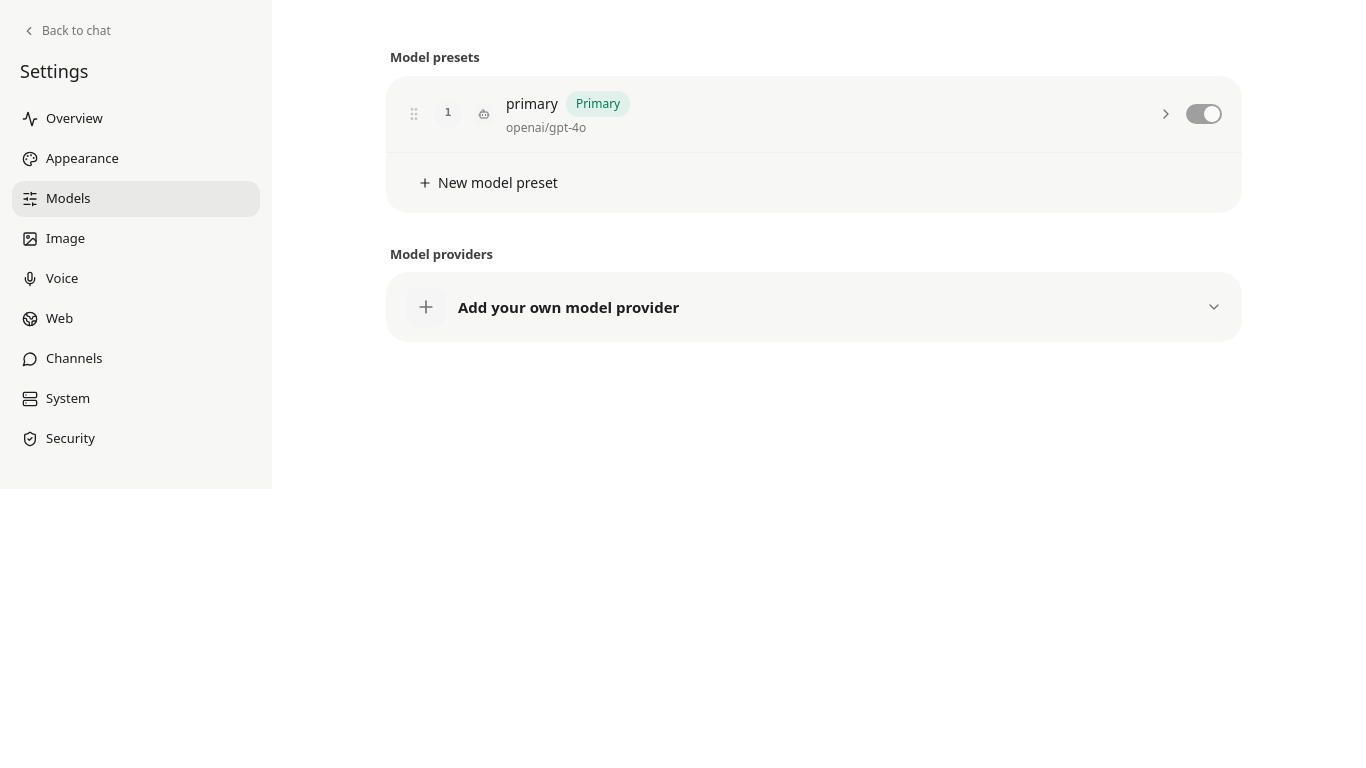
Test case: Settings models › maps a server-side name conflict back to the preset name field
Click the button "1 primary Primary openai/gpt-4o": click(532, 104) [434, 90, 1174, 136]
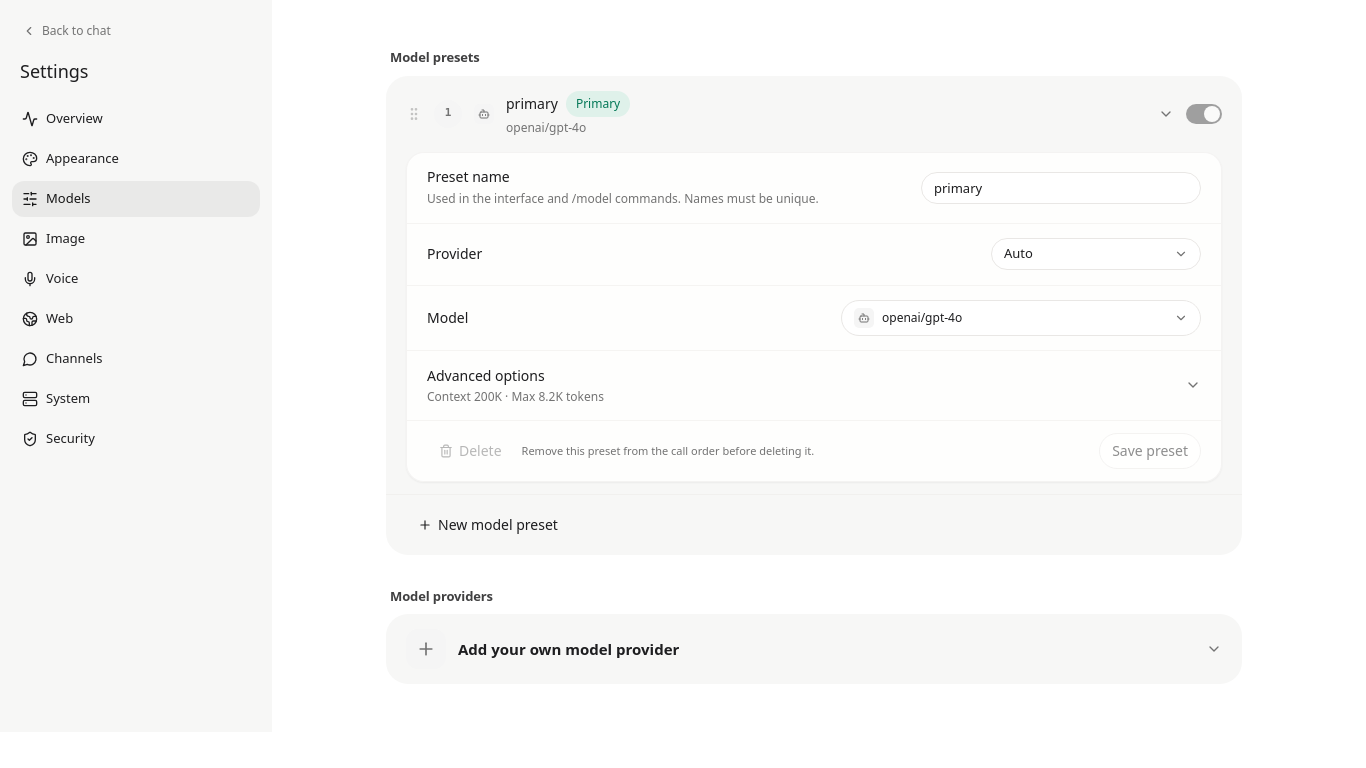
Replace the text in the field named "Preset name" with "Codex": (1061, 188) [921, 172, 1201, 204]
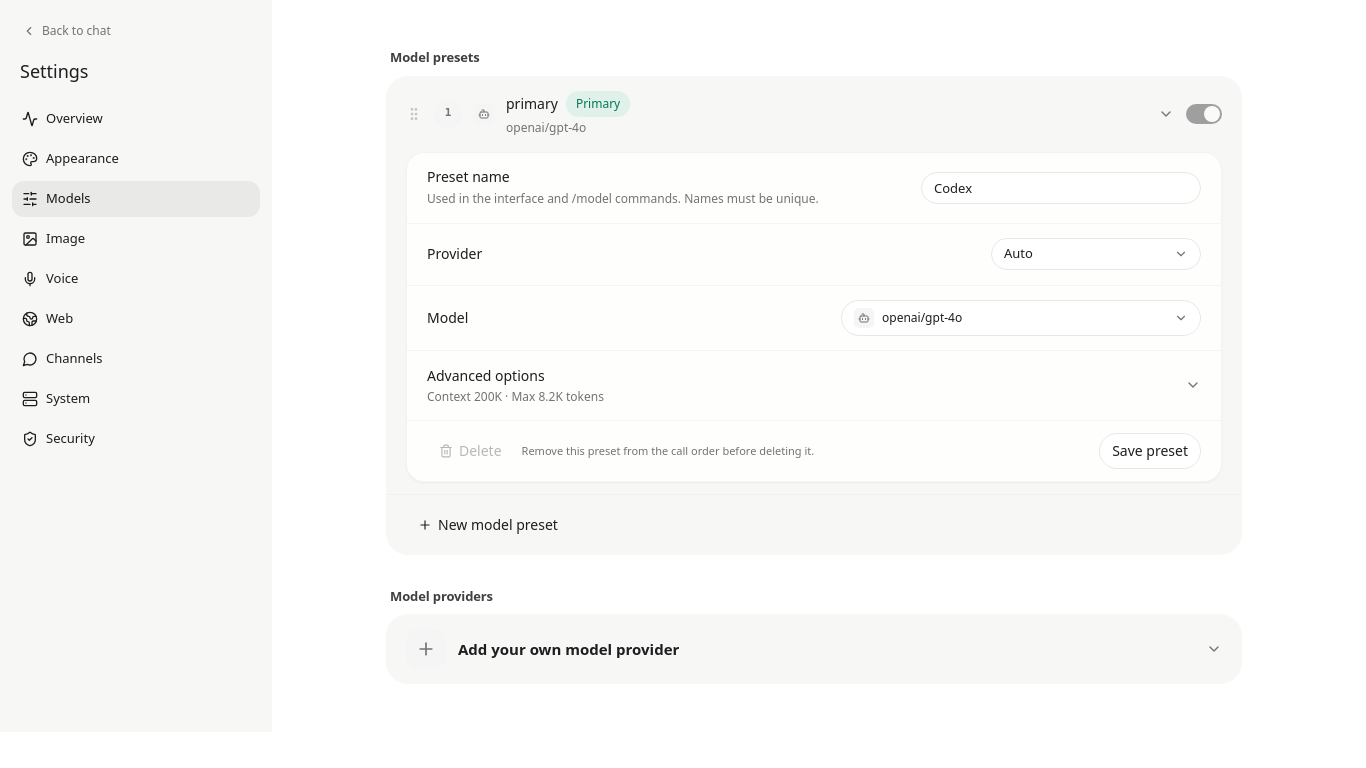
Click the button "Save preset": click(1150, 450) [1099, 432, 1201, 468]
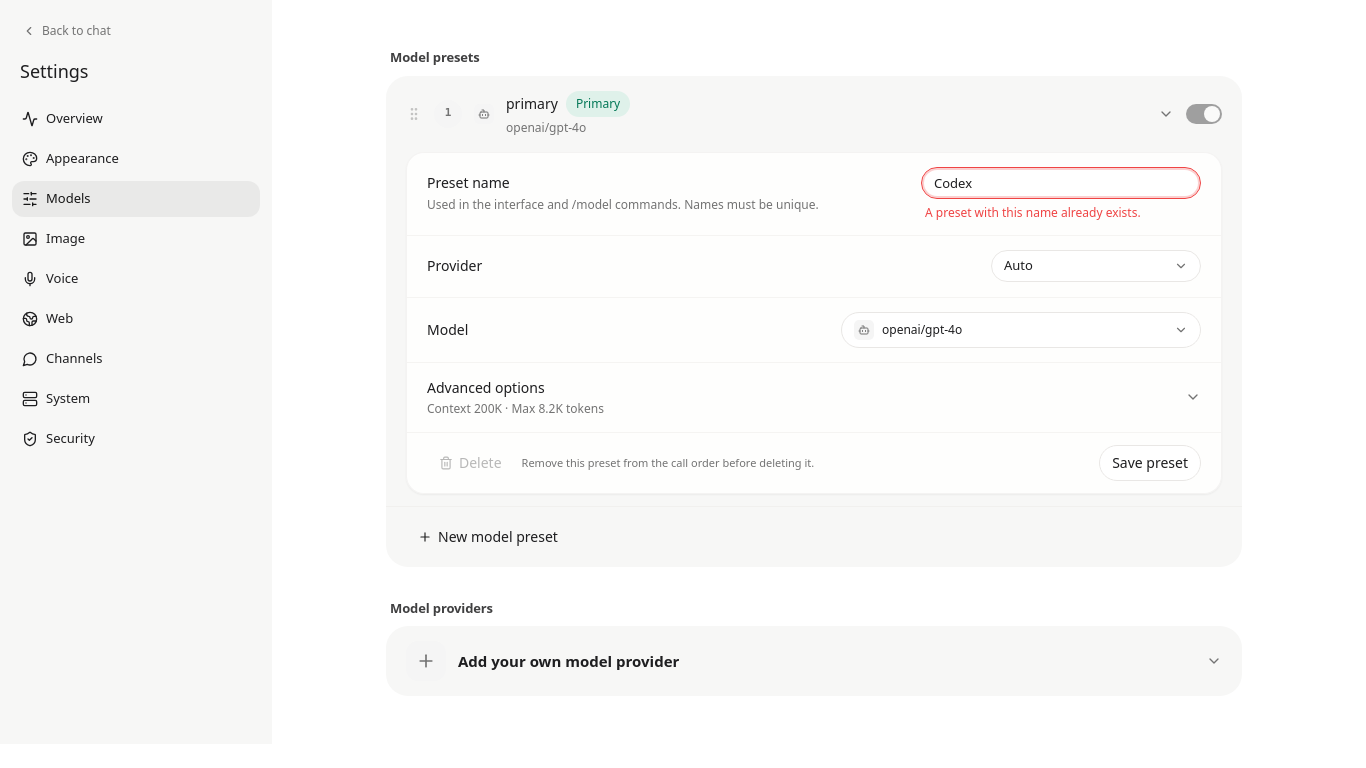
Now the message reads "A preset with this name already exists.", box [925, 204, 1141, 220]
